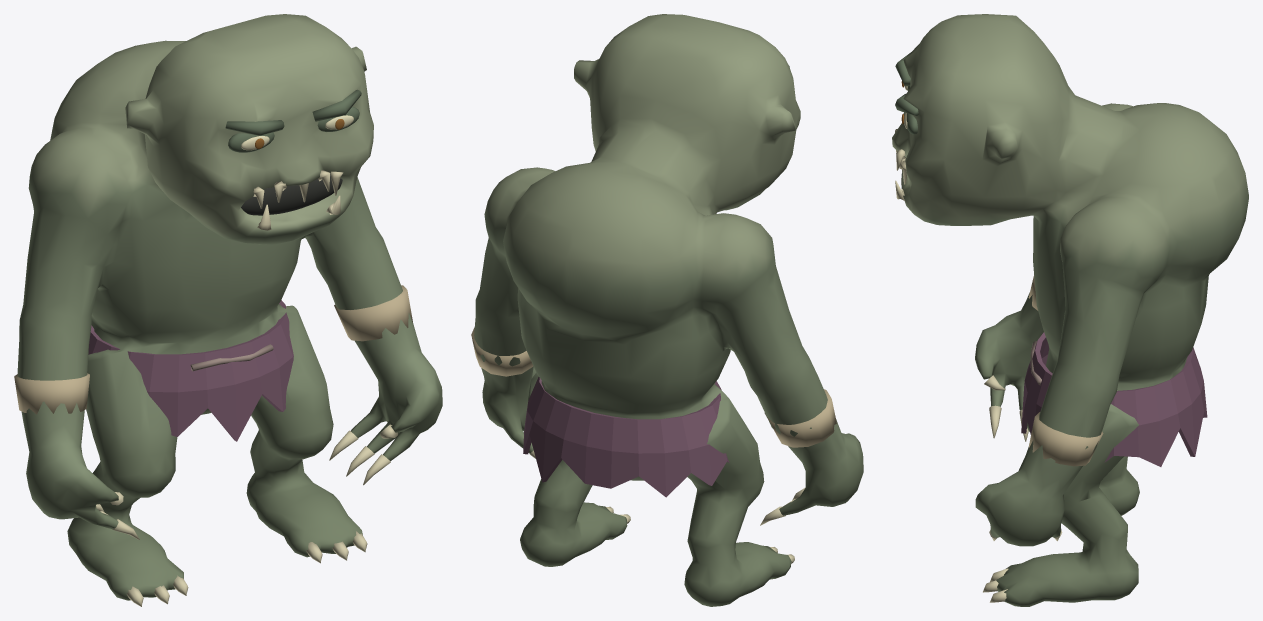
File: crypt-ghoul-blender-v5.glb
3 views of the same model, side by side, from view 1: azimuth 30°, elevation 25°; view 2: azimuth 150°, elevation 25°; view 3: azimuth 270°, elevation 25° (orthographic). The views are drawn at different scales.
Visible parts, largest first — view 1: GhoulSkin, Torn burial wrap, Forearm linen cuff.001, Forearm linen cuff, Mouth opening, Graphic eyebrow, Graphic eyebrow.001; view 2: GhoulSkin, Torn burial wrap, Forearm linen cuff, Forearm linen cuff.001; view 3: GhoulSkin, Torn burial wrap, Forearm linen cuff.001.
Boxes of the visible parts, <box> form: GhoulSkin: <box>17,14,442,600</box>; Torn burial wrap: <box>88,300,293,441</box>; Forearm linen cuff.001: <box>334,285,412,341</box>; Forearm linen cuff: <box>14,373,89,414</box>; Mouth opening: <box>241,173,342,215</box>; Graphic eyebrow: <box>225,120,284,135</box>; Graphic eyebrow.001: <box>312,89,361,121</box>; GhoulSkin: <box>474,14,863,606</box>; Torn burial wrap: <box>523,377,729,497</box>; Forearm linen cuff: <box>764,389,836,447</box>; Forearm linen cuff.001: <box>471,327,533,376</box>; GhoulSkin: <box>892,14,1248,606</box>; Torn burial wrap: <box>1021,332,1207,466</box>; Forearm linen cuff.001: <box>1028,412,1103,466</box>.
Bounding box in the file's own units: 1.52 × 2.01 × 1.25.
